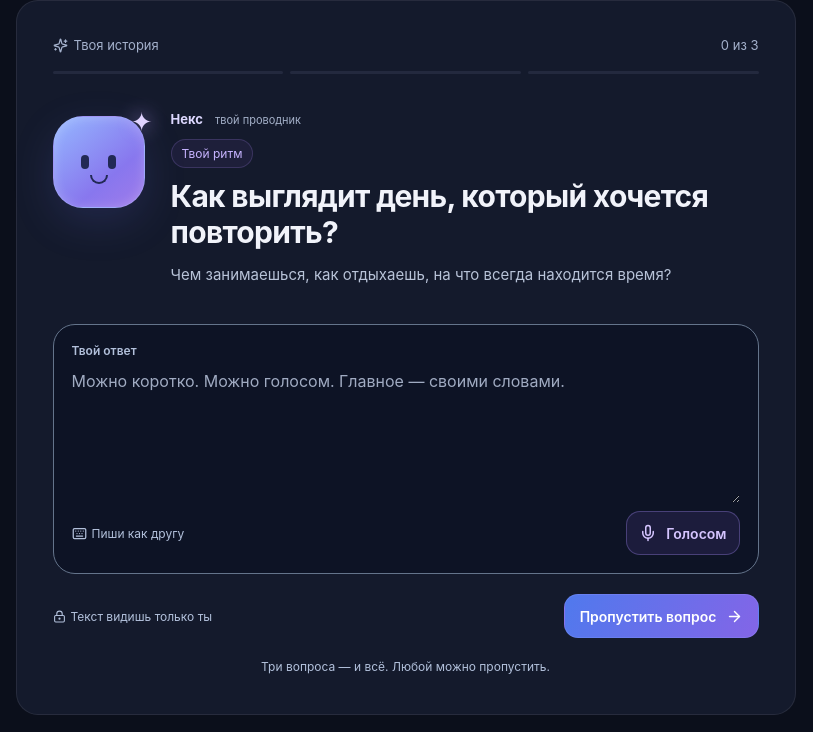
Test case: counts completed questions from zero and fills all three only on review
What coordinates should you click on to do the following:
click the button "Пропустить вопрос"
I would click on:
 (661, 616)
Its box is [564,594,758,638].
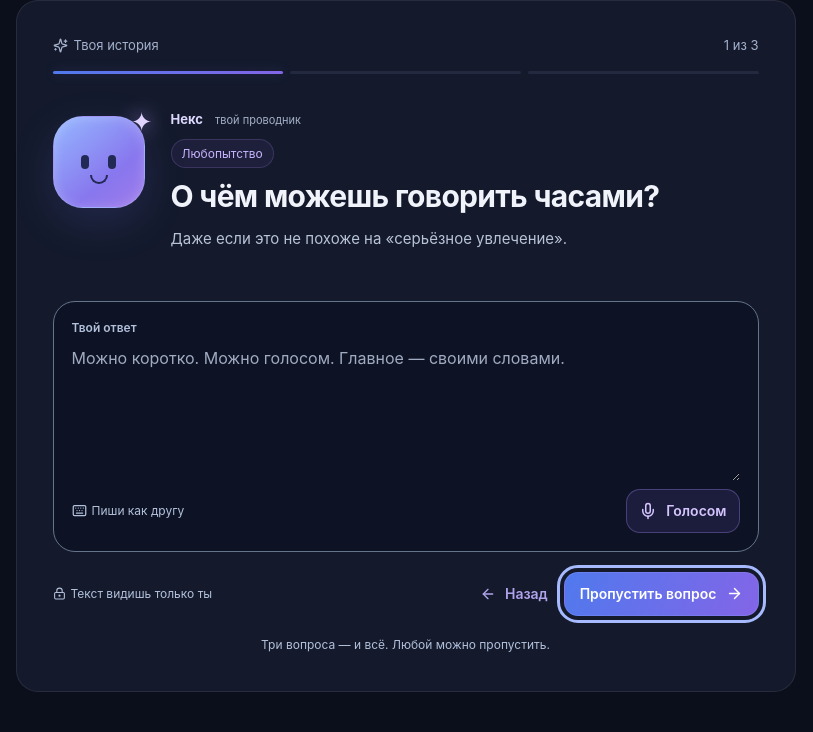
Now the number of icons with class "done" is 1, box [52,71,283,74]
What coordinates should you click on to do the following:
click the button "Пропустить вопрос"
I would click on:
 (661, 594)
Its box is [564,572,758,616].
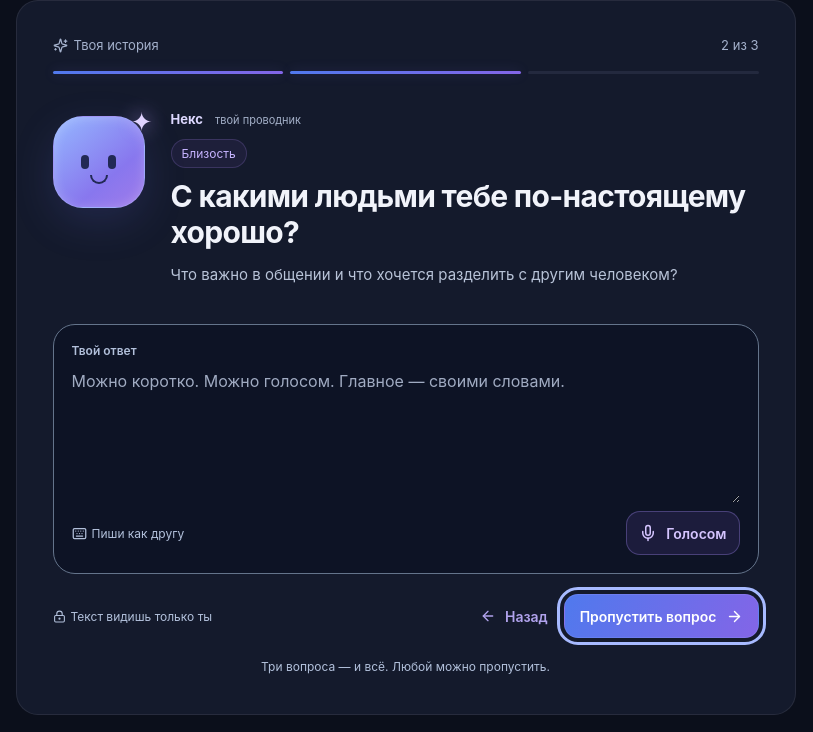
Now the number of icons with class "done" is 2, box [52,71,283,74]; [290,71,521,74]
What coordinates should you click on to do the following:
click the button "Пропустить вопрос"
I would click on:
 (661, 616)
Its box is [564,594,758,638].
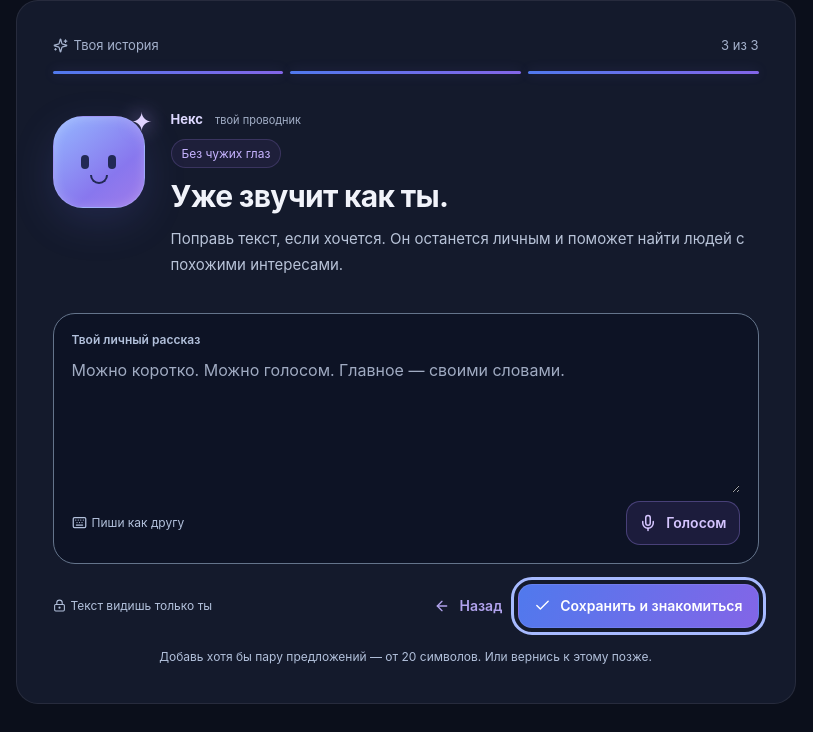
Now the number of icons with class "done" is 3, box [52,71,283,74]; [290,71,521,74]; [528,71,758,74]
